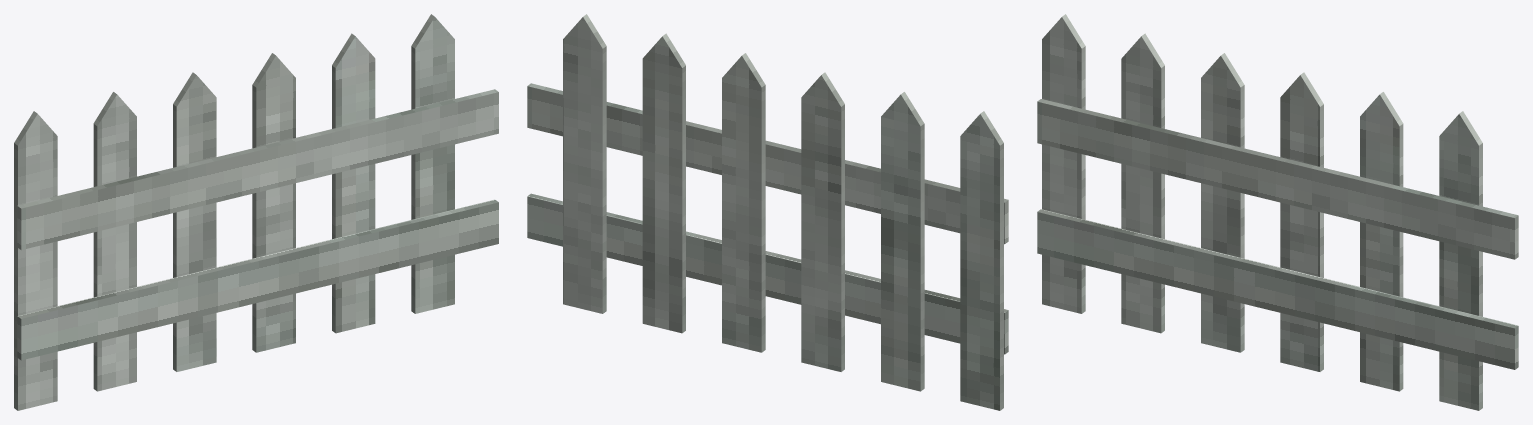
The model's file is white_picket_fence_open_left.glb.
3 renders of one model, left to right at view 1: azimuth 30°, elevation 25°; view 2: azimuth 150°, elevation 25°; view 3: azimuth 330°, elevation 25°, orthographic.
Visible parts, largest first — view 1: white_picket_fence_open_left; view 2: white_picket_fence_open_left; view 3: white_picket_fence_open_left.
Boxes of the visible parts, box(x1,y1,x2,y2) form: white_picket_fence_open_left: box(14, 14, 498, 410); white_picket_fence_open_left: box(527, 14, 1008, 410); white_picket_fence_open_left: box(1037, 14, 1518, 410).
Bounding box in the file's own units: 2.16 × 1.27 × 0.0622.
1 material, 1 textured.
